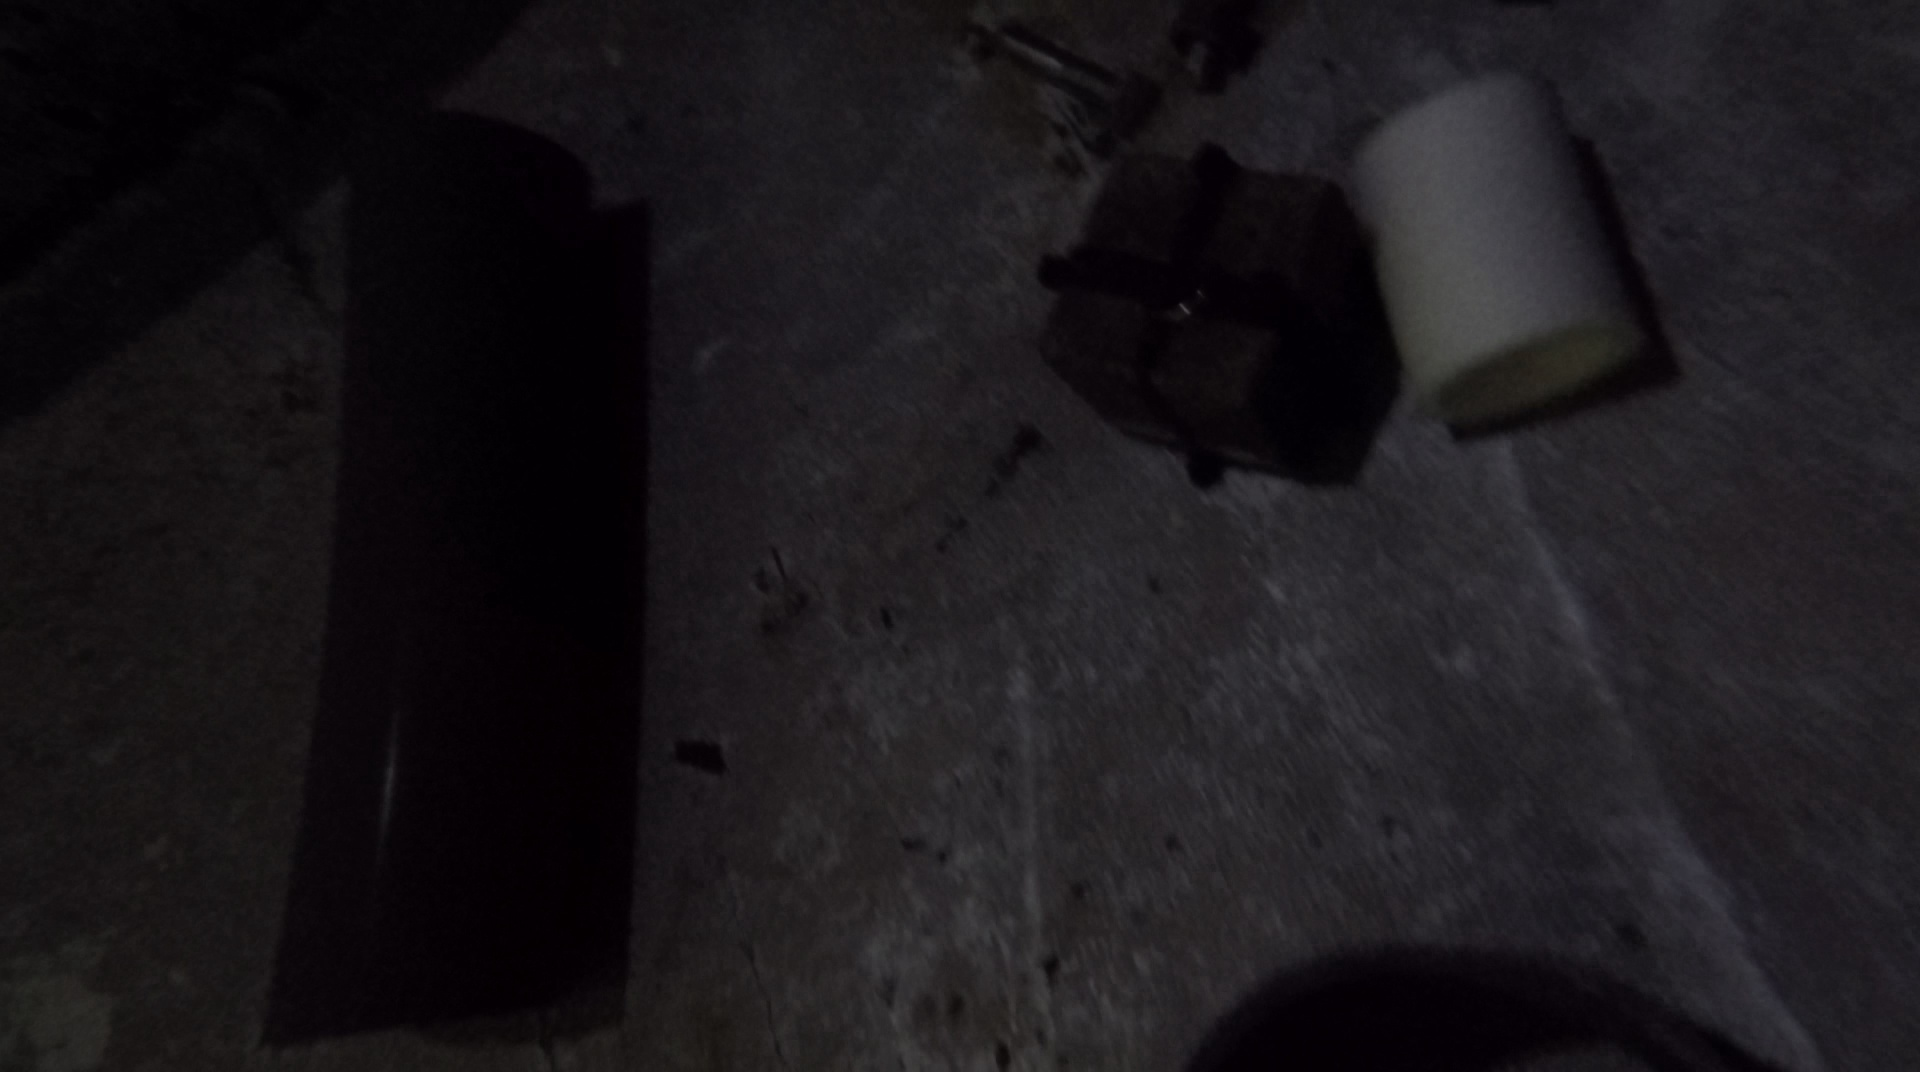bolt: (992, 24, 1153, 123), (1182, 1, 1241, 94)
led_block: (1035, 136, 1396, 491)
nut: (1167, 7, 1258, 73)
pipe: (247, 109, 600, 1044), (1342, 71, 1644, 439), (1178, 947, 1759, 1072)
